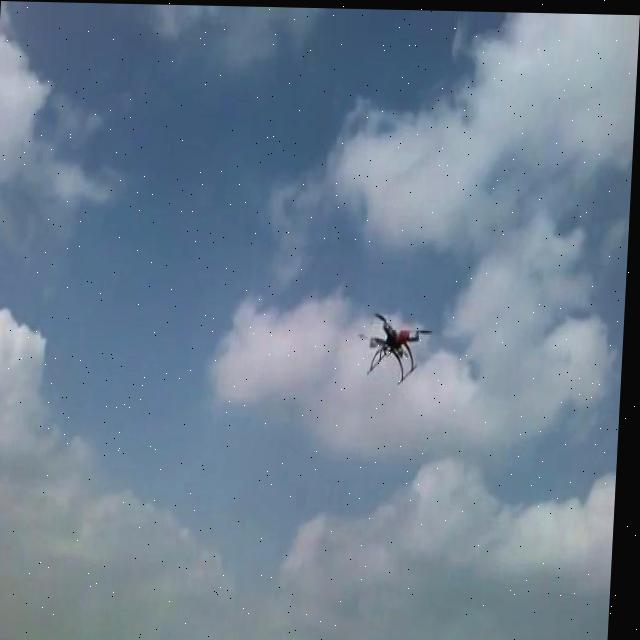drone: (359, 304, 437, 381)
